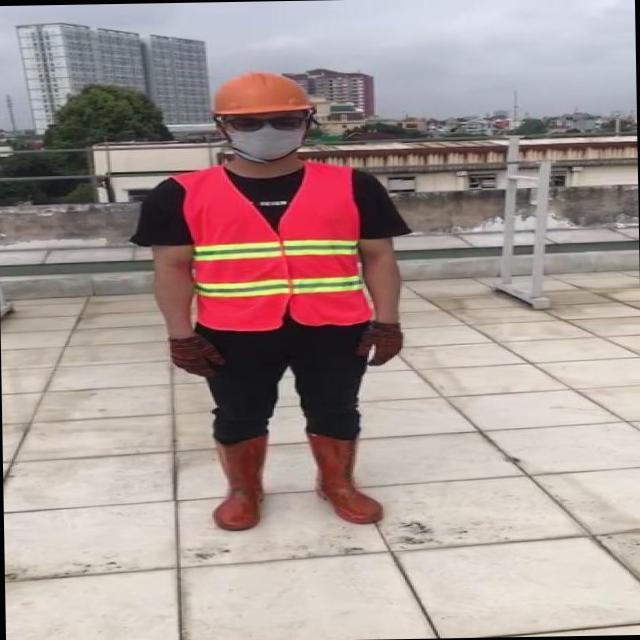boots: (309, 431, 386, 523), (212, 434, 268, 532)
helmet: (208, 70, 320, 118)
vest: (176, 168, 364, 330)
